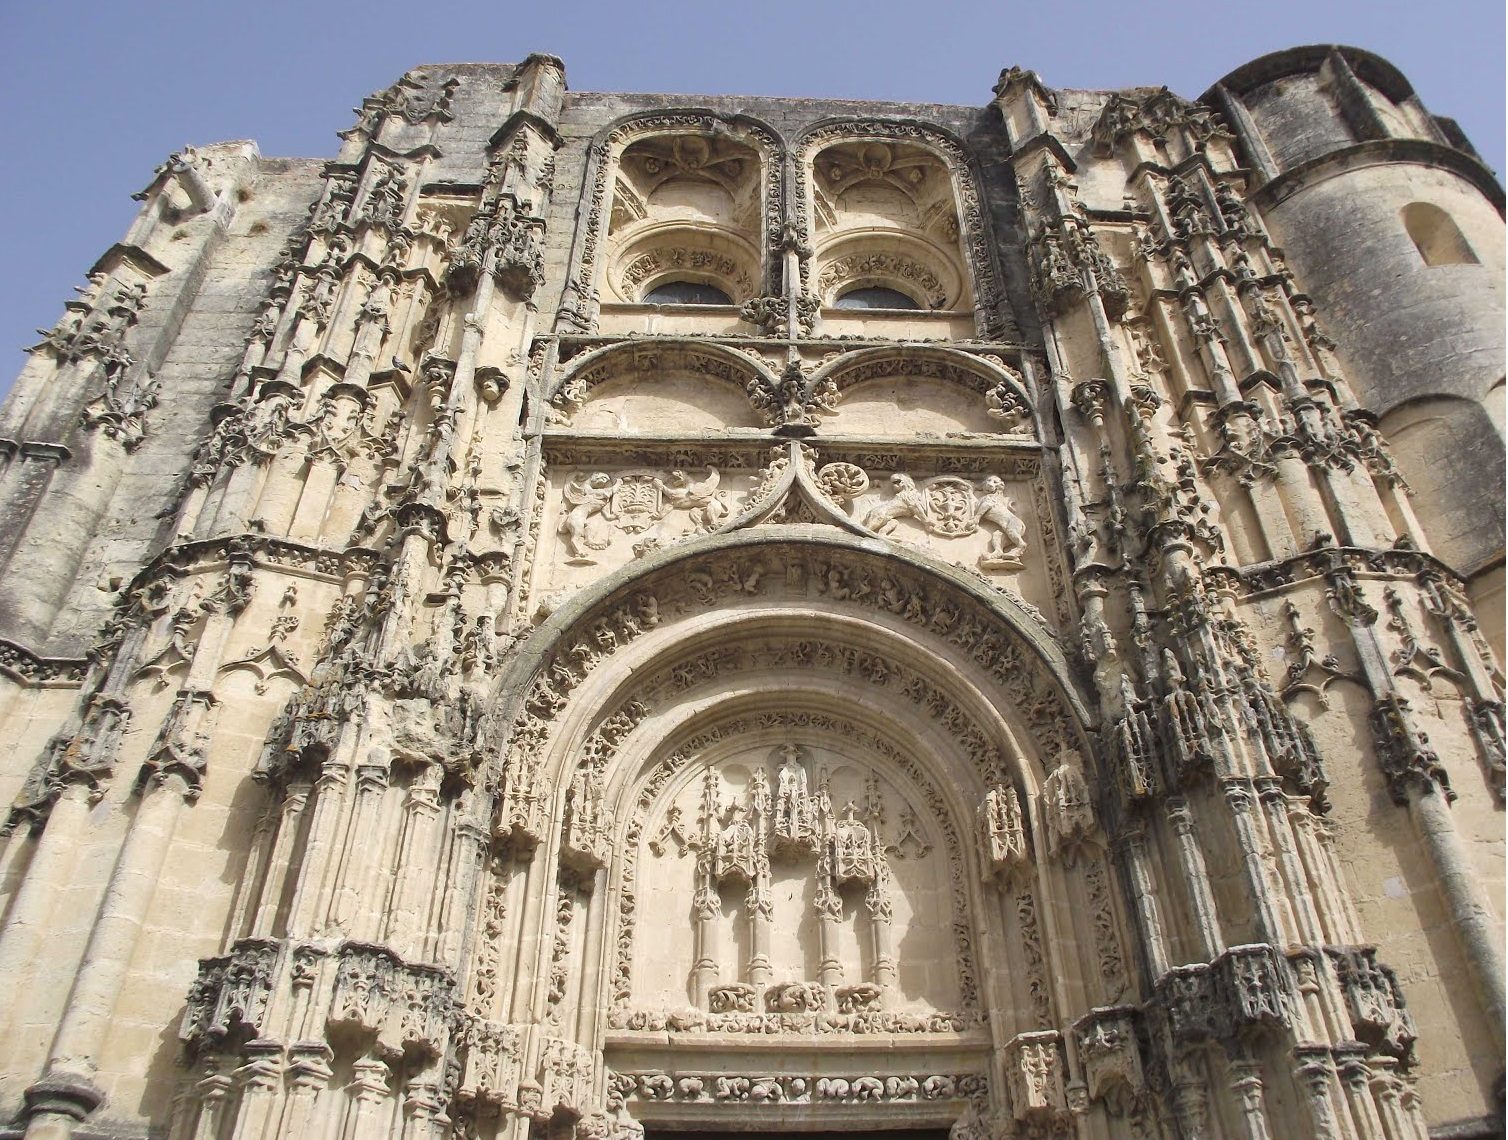arco-conopial: (579, 454, 1010, 595)
